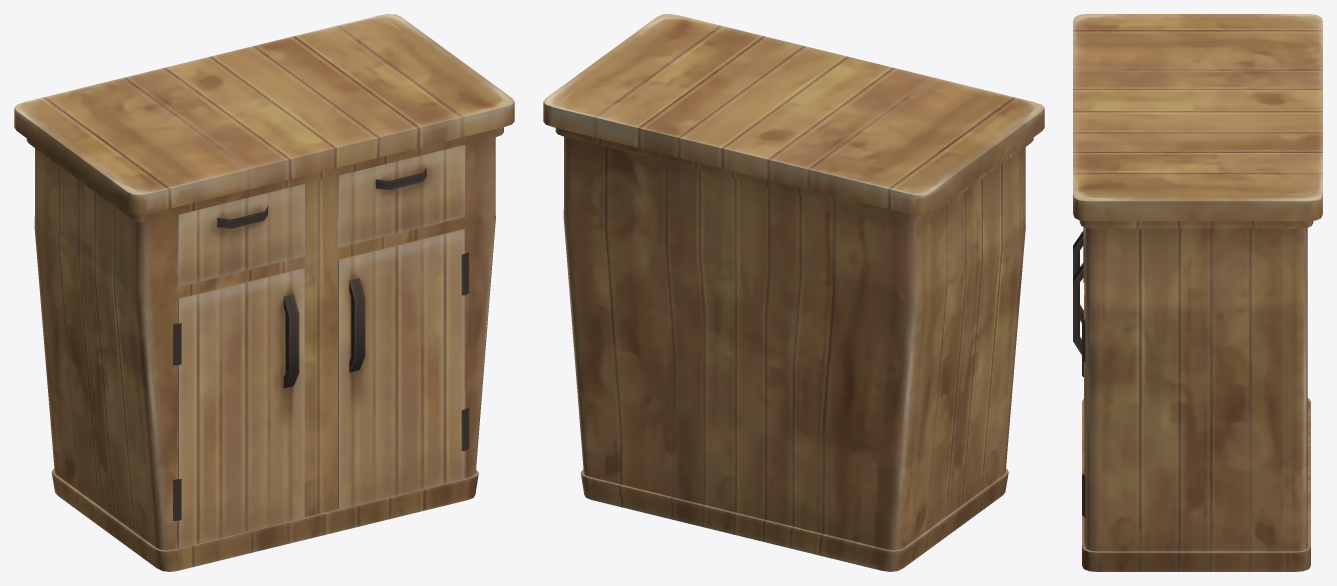
Rendered from CountryCabinet_HD.fbx.
The picture shows the model from 3 angles, left to right: view 1: azimuth 30°, elevation 25°; view 2: azimuth 150°, elevation 25°; view 3: azimuth 270°, elevation 25°; orthographic projection.
Parts seen in each view (by area): view 1: CountryCabinet; view 2: CountryCabinet; view 3: CountryCabinet.
Boxes of the visible parts, bbox=[...] form: CountryCabinet: bbox=[14, 14, 514, 571]; CountryCabinet: bbox=[543, 14, 1044, 571]; CountryCabinet: bbox=[1073, 14, 1322, 571].
Bounding box in the file's own units: 1.03 × 0.9959 × 0.5823.
